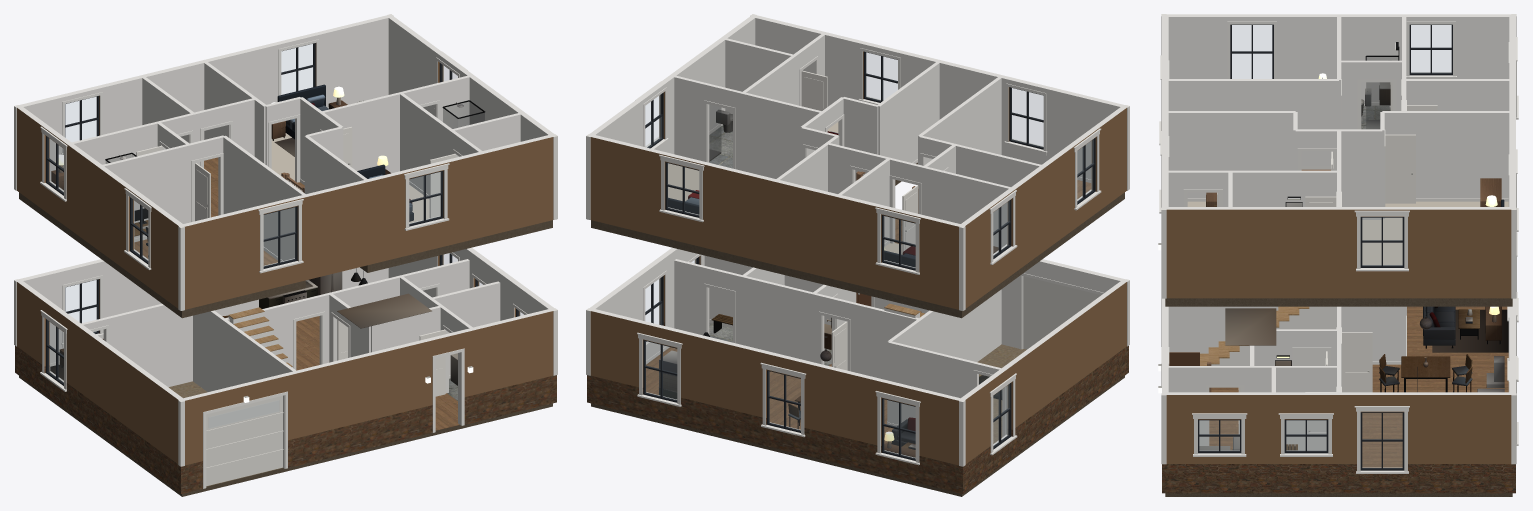
3 views of the same model, side by side, from view 1: azimuth 30°, elevation 25°; view 2: azimuth 150°, elevation 25°; view 3: azimuth 270°, elevation 25° (orthographic). The views are drawn at different scales.
Parts seen in each view (by area): view 1: Level 2, Level 1, Level 2 Glass, Furniture 2, Furniture 1, Level 1 Glass; view 2: Level 2, Level 1, Level 2 Glass, Level 1 Glass, Furniture 1, Furniture 2; view 3: Level 2, Level 1, Furniture 1, Level 2 Glass, Level 1 Glass, Furniture 2.
Part boxes in pixels (x1,y1,x2,y2): Level 2: [14, 14, 557, 318]; Level 1: [14, 247, 557, 496]; Level 2 Glass: [47, 44, 457, 266]; Furniture 2: [51, 84, 485, 256]; Furniture 1: [50, 268, 457, 385]; Level 1 Glass: [47, 253, 523, 427]; Level 2: [586, 14, 1129, 318]; Level 1: [586, 247, 1129, 496]; Level 2 Glass: [645, 53, 1093, 267]; Level 1 Glass: [645, 259, 1009, 457]; Furniture 1: [658, 314, 915, 457]; Furniture 2: [668, 105, 998, 267]; Level 2: [1159, 14, 1518, 306]; Level 1: [1158, 232, 1518, 496]; Furniture 1: [1199, 306, 1508, 450]; Level 2 Glass: [1232, 25, 1451, 265]; Level 1 Glass: [1158, 245, 1402, 467]; Furniture 2: [1206, 42, 1504, 206].
Bounding box in the file's own units: 13.14 × 8.94 × 10.12.
Materials: 62 (27 with a texture image).
